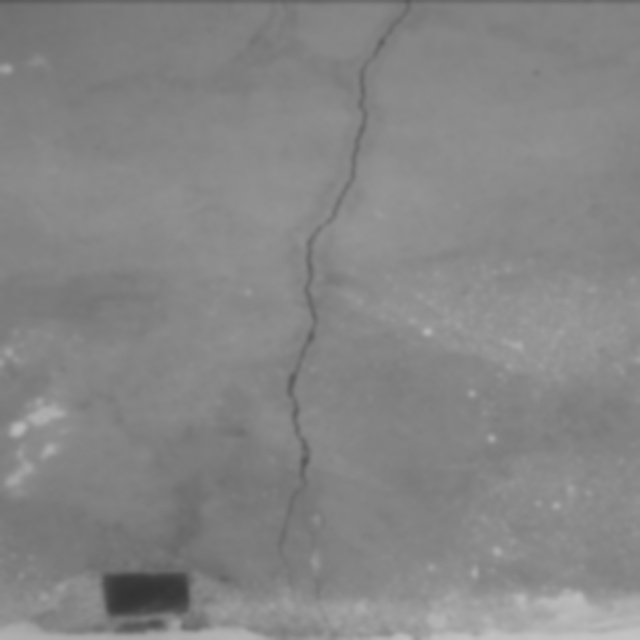SurfaceCrack: (246, 0, 449, 631)
